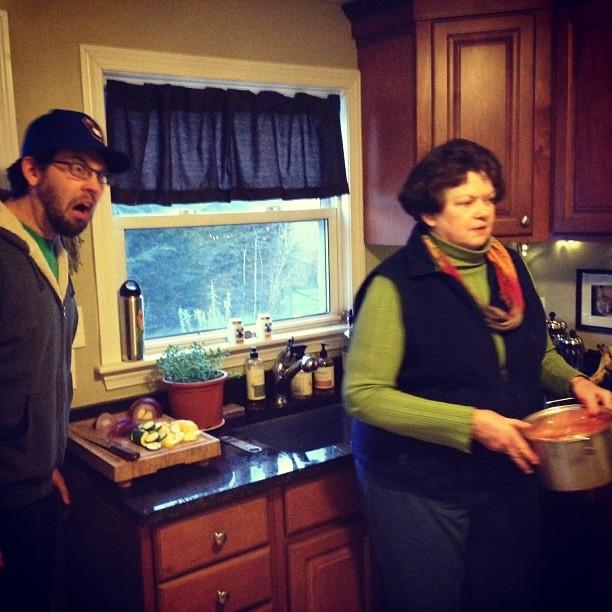cucumber: (131, 428, 149, 445), (146, 432, 160, 442), (146, 442, 161, 450), (143, 422, 155, 431), (141, 442, 151, 448)
onion: (127, 398, 163, 422), (107, 417, 137, 438), (92, 412, 118, 430)
